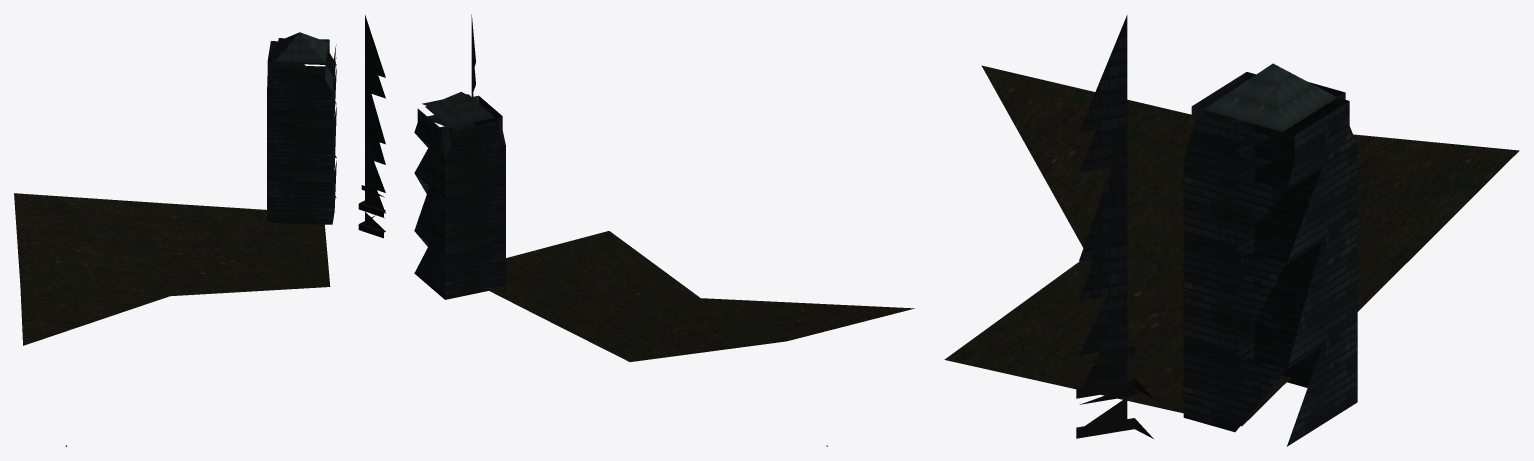
File: cell_0_-1.gltf
The picture shows the model from 3 angles, left to right: view 1: azimuth 30°, elevation 25°; view 2: azimuth 150°, elevation 25°; view 3: azimuth 270°, elevation 25°; orthographic projection. The views are drawn at different scales.
Visible parts, largest first — view 1: cell_0_-1; view 2: cell_0_-1; view 3: cell_0_-1.
Part boxes in pixels (<box>): cell_0_-1: <box>14,15,385,446</box>; cell_0_-1: <box>414,14,914,446</box>; cell_0_-1: <box>944,15,1519,446</box>.
Size of the model in its own units: 317 by 261 by 205.
Materials: 5 (5 with a texture image).
